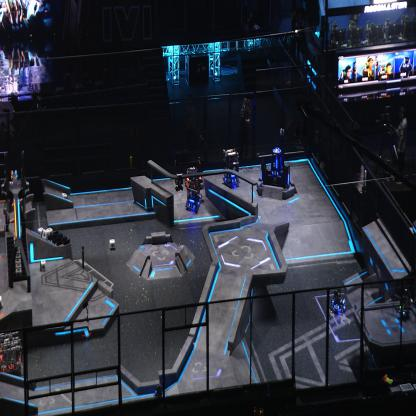car: (0, 332, 23, 383), (222, 149, 240, 187), (185, 180, 202, 212), (184, 165, 204, 190), (329, 287, 347, 314)
